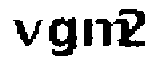2: (115, 8, 147, 49)
g: (48, 16, 81, 60)
m: (82, 17, 131, 51)
v: (9, 15, 44, 50)
